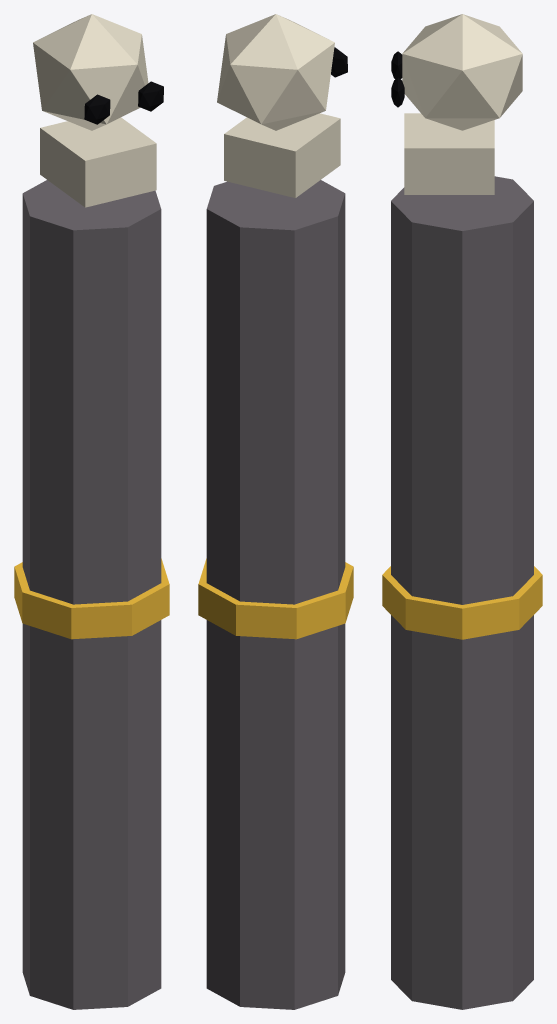
Rendered from Prop_OR_SkullTotem_06.glb.
The picture shows the model from 3 angles, left to right: view 1: azimuth 30°, elevation 25°; view 2: azimuth 150°, elevation 25°; view 3: azimuth 270°, elevation 25°; orthographic projection.
Parts seen in each view (by area): view 1: Prop_OR_SkullTotem_06; view 2: Prop_OR_SkullTotem_06; view 3: Prop_OR_SkullTotem_06.
Part boxes in pixels (<box>): Prop_OR_SkullTotem_06: <box>14,14,169,1009</box>; Prop_OR_SkullTotem_06: <box>198,14,353,1009</box>; Prop_OR_SkullTotem_06: <box>382,14,542,1009</box>.
Bounding box in the file's own units: 0.56 × 3.72 × 0.56.
